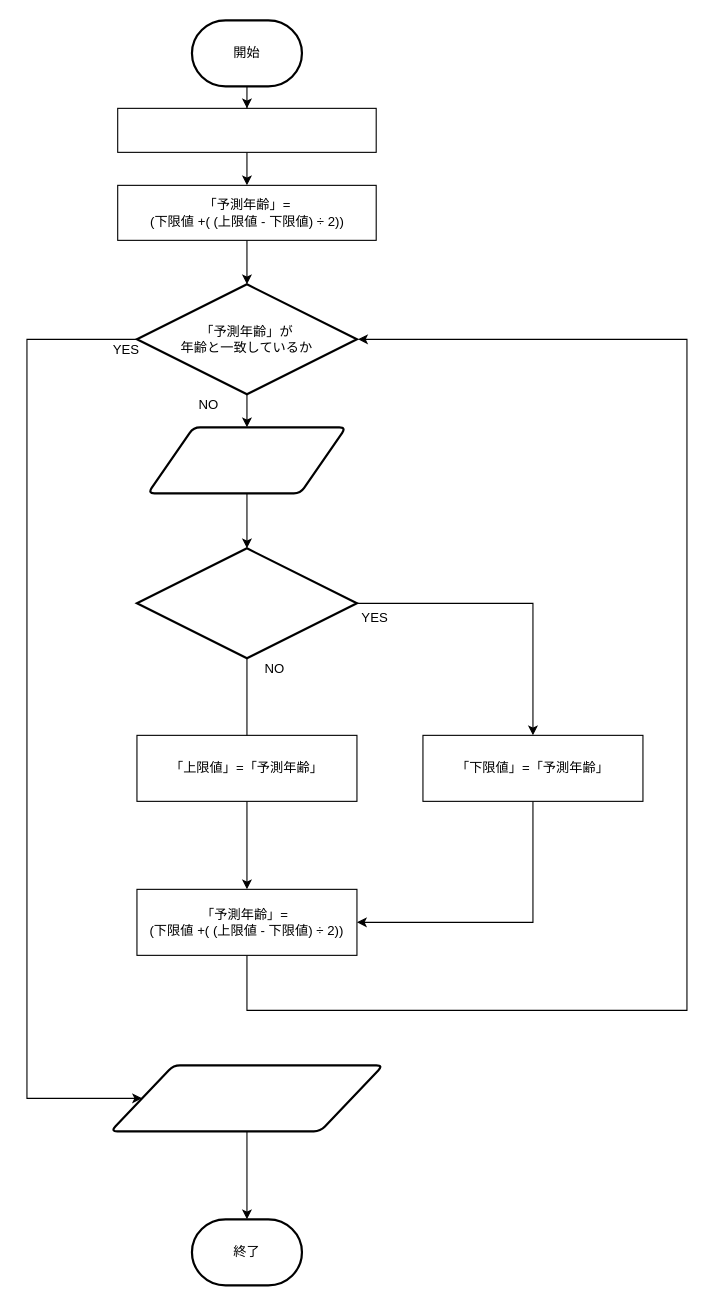
The diagram is 715 pixels wide and 1305 high, and some of its shapes have lost their labels. The box of each missing label's shape, as (x1, y1, x2, y2) in pixels:
「下限値」= 範囲の下限値 「上限値」= 範囲の上限値: (117, 107, 376, 152)
年齢は「予測年齢」以上か: (135, 547, 358, 659)
年齢判定結果 「予測年齢 = 年齢」を出力: (109, 1064, 384, 1132)
年齢判定結果 「予測年齢」を出力: (146, 426, 346, 494)
